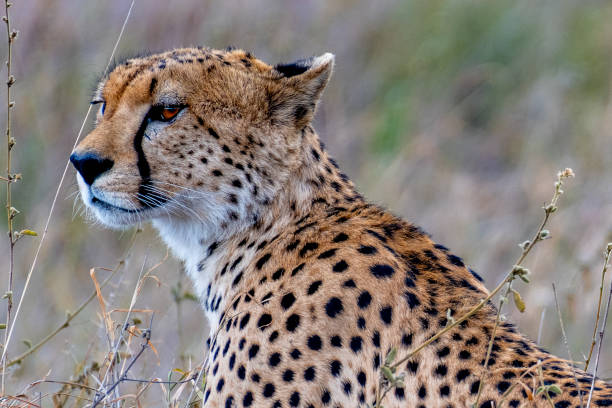cheetah: (46, 35, 347, 259)
